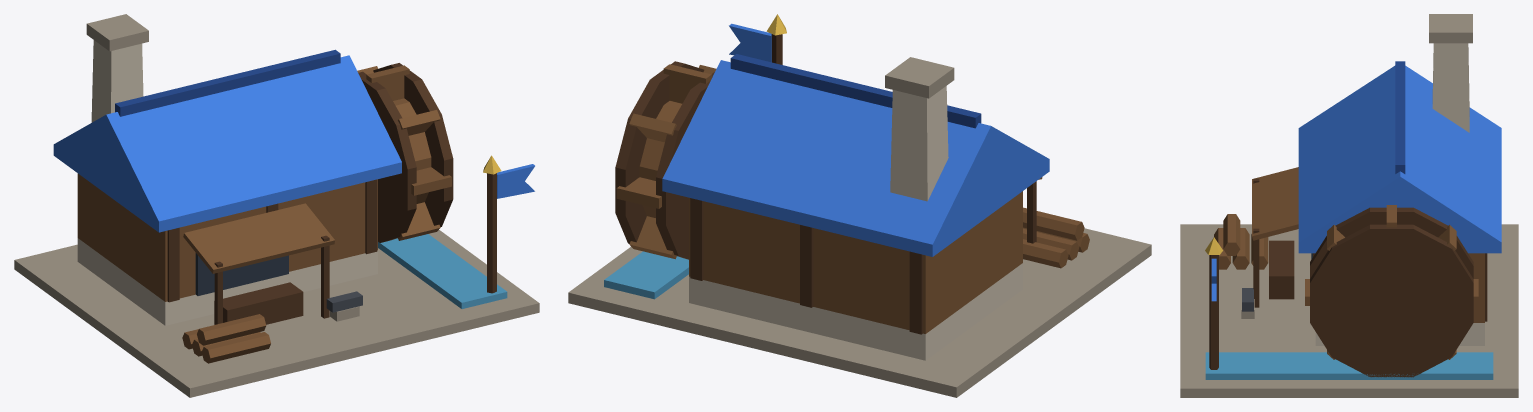
The model's file is bld_workshop.glb.
The picture shows the model from 3 angles, left to right: view 1: azimuth 30°, elevation 25°; view 2: azimuth 150°, elevation 25°; view 3: azimuth 270°, elevation 25°; orthographic projection. The views are drawn at different scales.
Visible parts, largest first — view 1: bld_workshop; view 2: bld_workshop; view 3: bld_workshop.
Boxes of the visible parts, x1,y1,x2,y2 form: bld_workshop: (14,14,539,397); bld_workshop: (568,14,1151,397); bld_workshop: (1180,14,1518,397).
Size of the model in its own units: 0.476 by 0.316 by 0.4.
